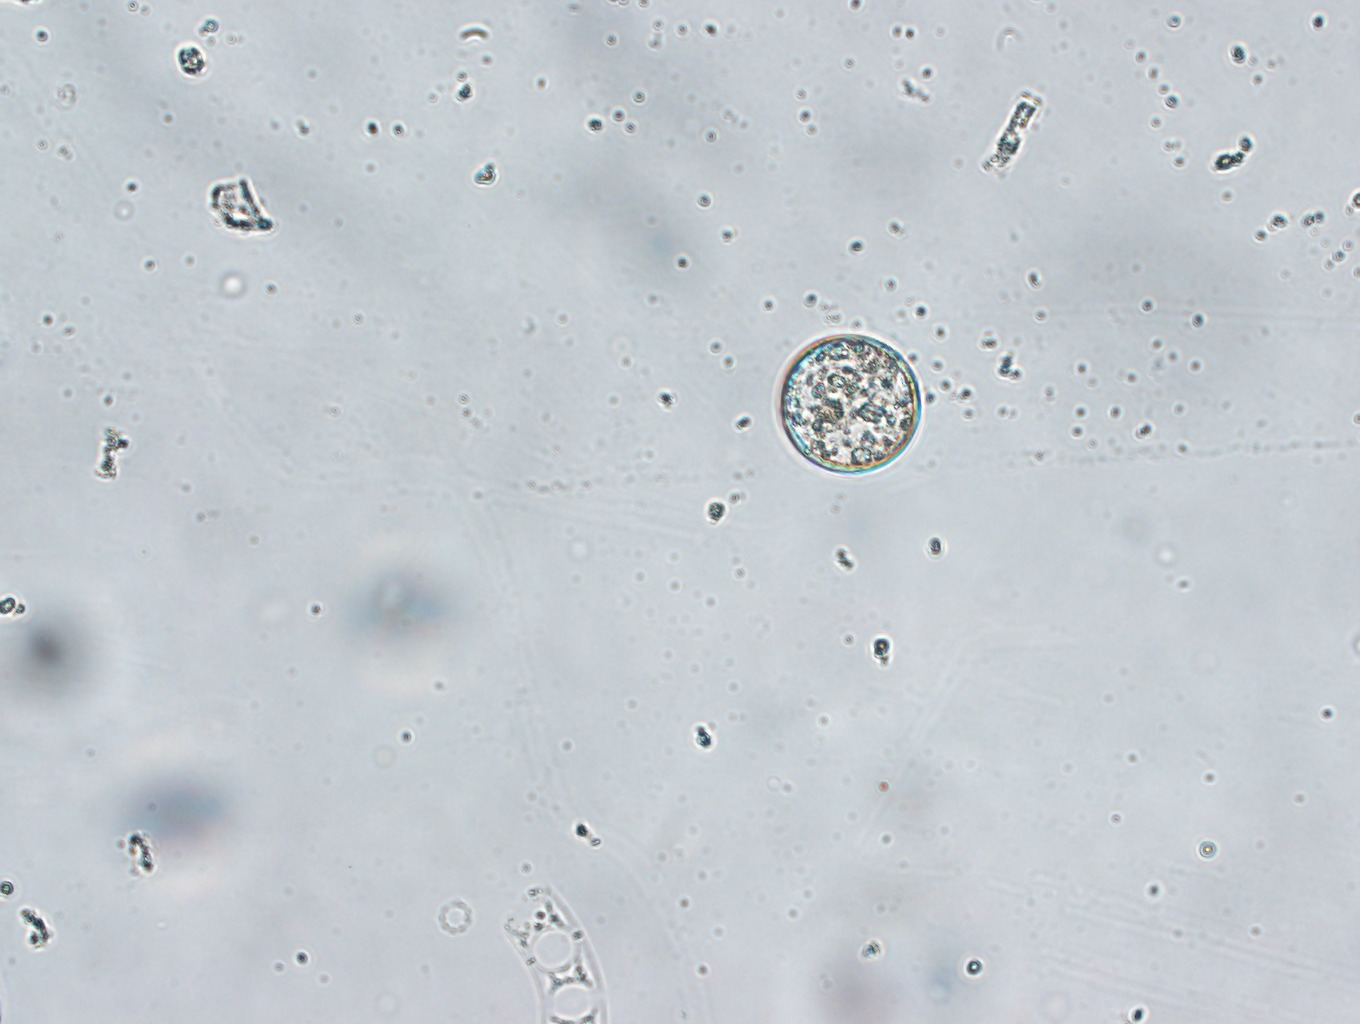coscinodiscus: (778, 335, 924, 474)
eucampia: (497, 888, 609, 1024)
